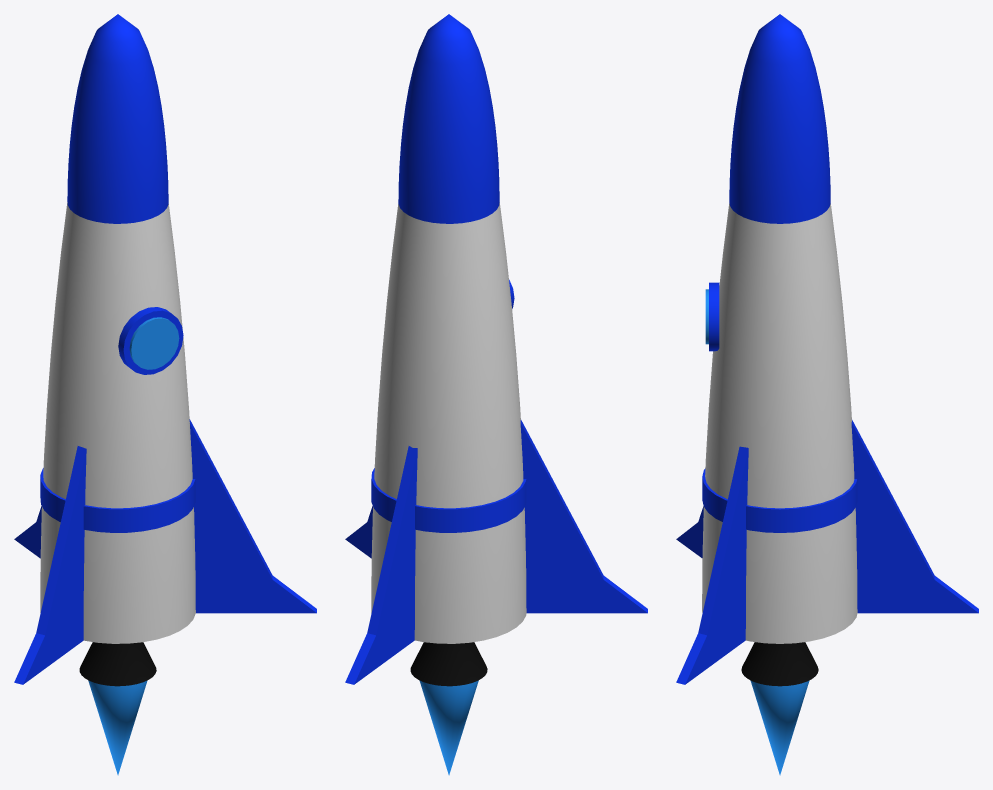
Rendered from Rocket_14_AzureJet.obj.
3 views of the same model, side by side, from view 1: azimuth 30°, elevation 25°; view 2: azimuth 150°, elevation 25°; view 3: azimuth 270°, elevation 25° (orthographic).
Visible parts, largest first — view 1: R14_Body, R14_Nose, R14_Fin_3, R14_Fin_2, R14_Band_1, R14_Nozzle_1, R14_Flame_1, R14_Window_1, R14_WindowFrame_1, R14_Fin_1; view 2: R14_Body, R14_Nose, R14_Fin_2, R14_Fin_1, R14_Band_1, R14_Nozzle_1, R14_Flame_1, R14_Fin_3; view 3: R14_Body, R14_Nose, R14_Fin_1, R14_Fin_3, R14_Band_1, R14_Nozzle_1, R14_Flame_1, R14_WindowFrame_1, R14_Fin_2.
Boxes of the visible parts, <box> form: R14_Body: <box>40,202,195,643</box>; R14_Nose: <box>67,14,168,223</box>; R14_Fin_3: <box>189,419,316,613</box>; R14_Fin_2: <box>14,446,86,684</box>; R14_Band_1: <box>40,468,195,532</box>; R14_Nozzle_1: <box>79,642,156,686</box>; R14_Flame_1: <box>88,680,147,775</box>; R14_Window_1: <box>129,317,179,369</box>; R14_WindowFrame_1: <box>118,307,183,374</box>; R14_Fin_1: <box>14,506,41,558</box>; R14_Body: <box>371,203,526,643</box>; R14_Nose: <box>398,14,499,223</box>; R14_Fin_2: <box>520,420,647,613</box>; R14_Fin_1: <box>345,446,417,684</box>; R14_Band_1: <box>371,468,526,532</box>; R14_Nozzle_1: <box>410,642,487,686</box>; R14_Flame_1: <box>419,680,478,775</box>; R14_Fin_3: <box>345,506,372,558</box>; R14_Body: <box>702,203,857,643</box>; R14_Nose: <box>729,14,830,223</box>; R14_Fin_1: <box>851,420,978,613</box>; R14_Fin_3: <box>676,446,748,684</box>; R14_Band_1: <box>702,468,857,532</box>; R14_Nozzle_1: <box>741,642,818,686</box>; R14_Flame_1: <box>750,680,809,775</box>; R14_WindowFrame_1: <box>709,282,719,351</box>; R14_Fin_2: <box>676,506,703,557</box>.
Size of the model in its own units: 4.03 by 9.7 by 3.49.
